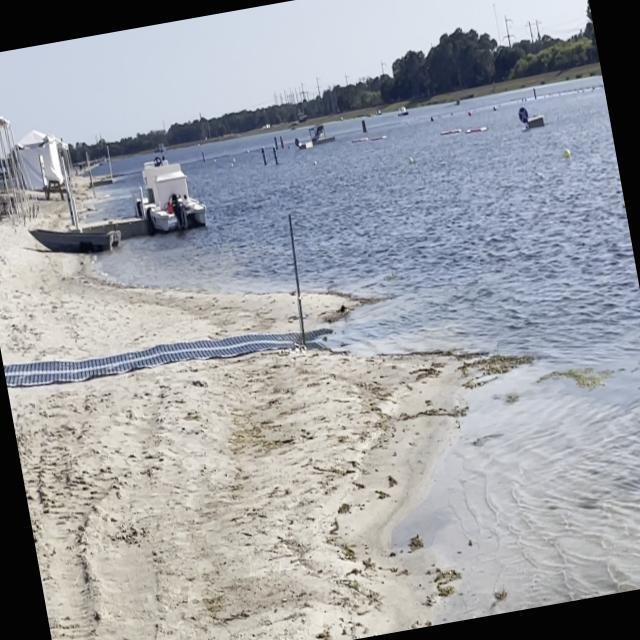buoy: (562, 148, 570, 158), (408, 154, 413, 162)
